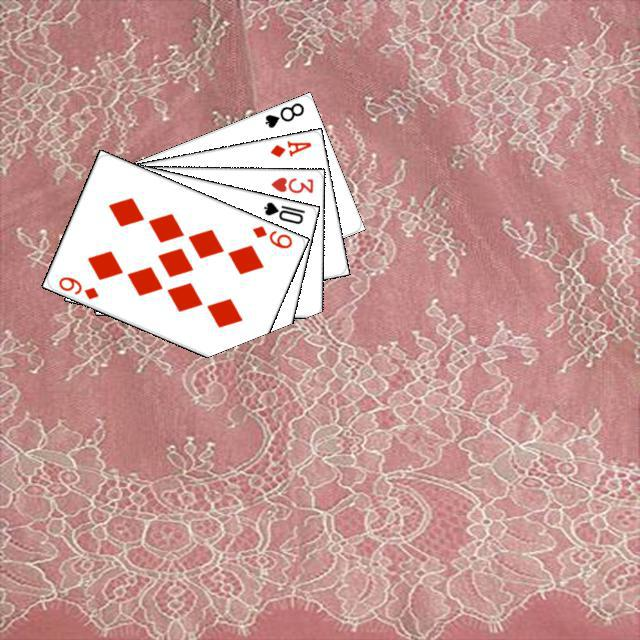10s: (259, 197, 306, 226)
3h: (266, 172, 315, 195)
8s: (260, 98, 306, 130)
9d: (53, 271, 100, 301), (247, 221, 294, 250)
Ad: (265, 136, 313, 159)
